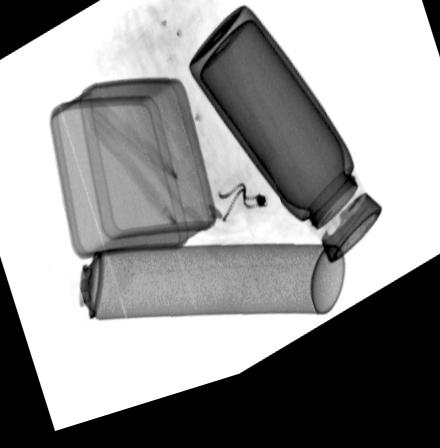Sprayer: (42, 254, 347, 333)
